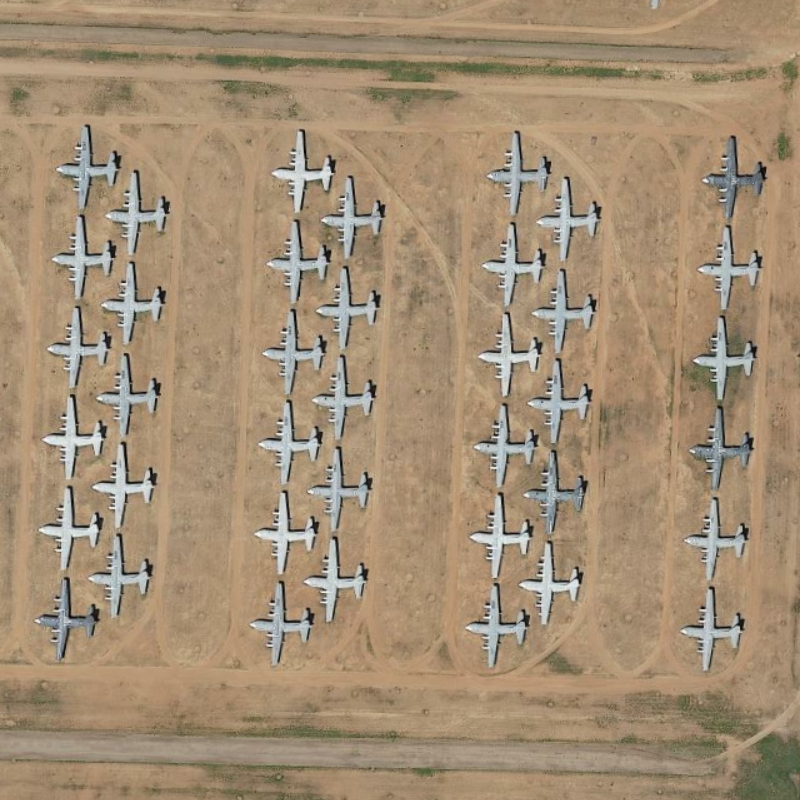A2: (457, 488, 536, 585), (241, 483, 320, 578), (678, 583, 750, 678), (90, 439, 162, 532), (87, 527, 155, 625), (35, 478, 103, 576), (102, 163, 171, 259), (304, 441, 376, 532), (263, 212, 329, 311), (311, 351, 382, 442), (250, 393, 318, 488), (519, 538, 588, 631), (40, 387, 106, 484), (45, 301, 111, 398), (99, 257, 171, 345), (316, 170, 383, 264), (263, 125, 332, 216), (241, 579, 313, 666), (315, 259, 382, 352), (302, 536, 370, 626), (48, 213, 115, 304), (681, 495, 750, 583), (95, 352, 164, 439), (525, 444, 588, 539), (31, 576, 101, 659), (56, 122, 121, 211), (473, 399, 538, 488), (529, 354, 594, 443), (475, 307, 540, 396), (528, 261, 593, 350), (479, 219, 544, 308), (534, 173, 599, 262), (485, 126, 550, 215), (685, 402, 750, 491), (695, 221, 760, 310), (690, 313, 755, 402), (699, 134, 764, 223), (257, 311, 325, 395), (466, 581, 529, 669)
